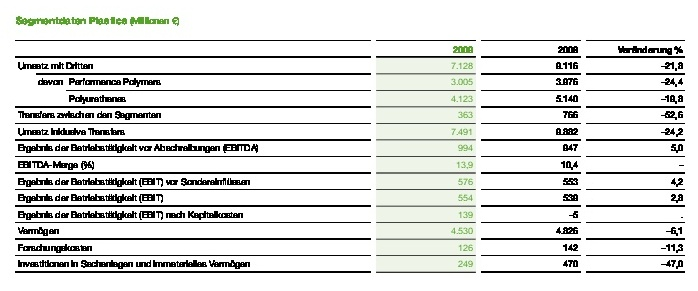table: (0, 0, 698, 291)
